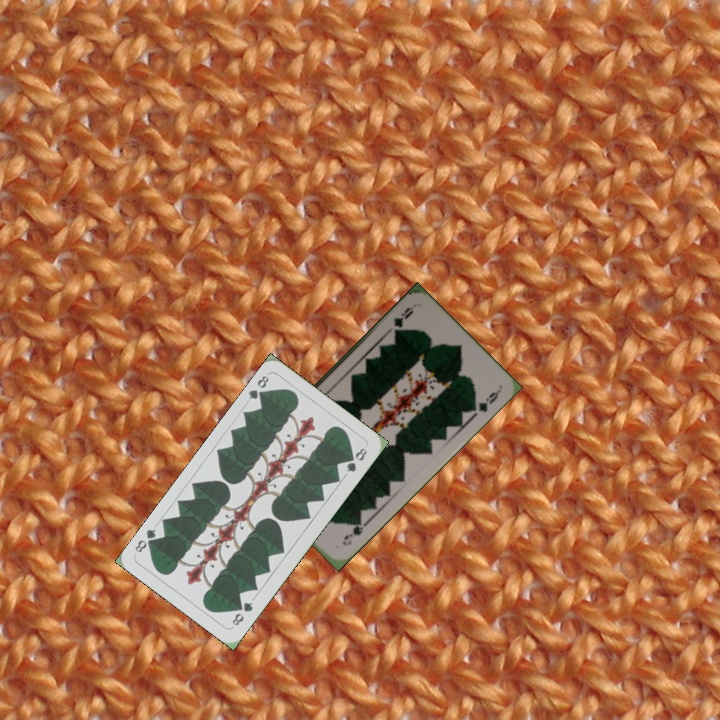G8: (244, 371, 272, 403), (228, 598, 256, 629)
G9: (338, 515, 369, 548), (390, 303, 416, 337)
